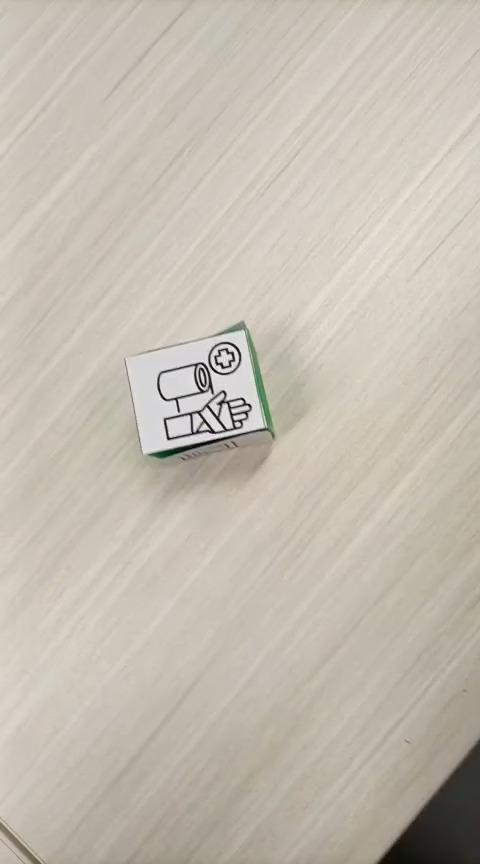Bandages: (123, 319, 275, 461)
